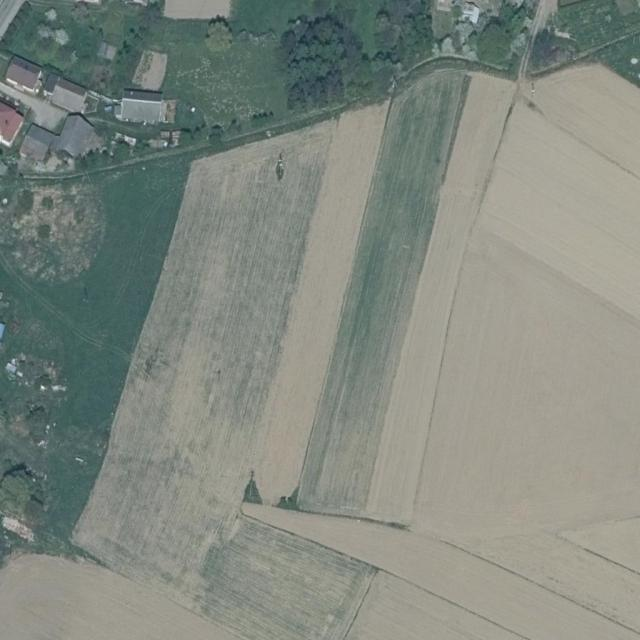agricultural_land: (0, 155, 192, 562)
building: (49, 109, 102, 165), (38, 71, 93, 118), (1, 54, 49, 99), (16, 123, 56, 166), (48, 77, 90, 116), (120, 88, 163, 123), (0, 100, 24, 147)
greenland: (162, 20, 286, 117), (326, 0, 444, 98), (86, 96, 277, 151), (280, 11, 367, 113), (229, 1, 389, 35), (592, 19, 640, 87), (70, 135, 138, 182)
